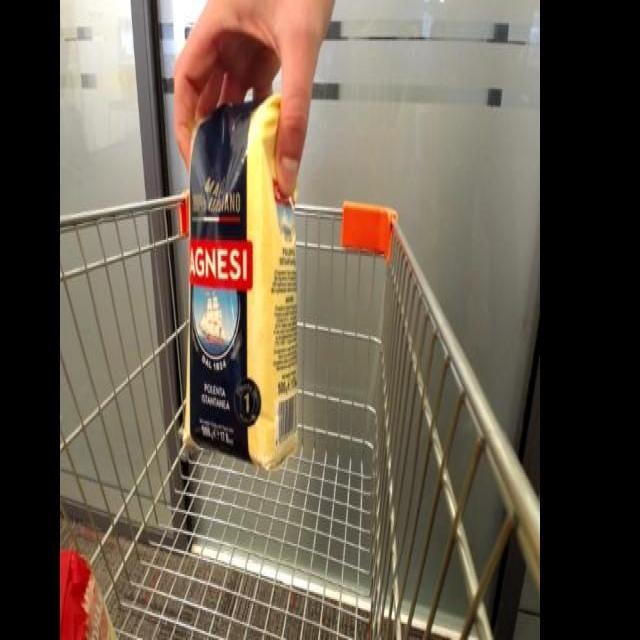Agnesi Polenta: (176, 86, 310, 467)
